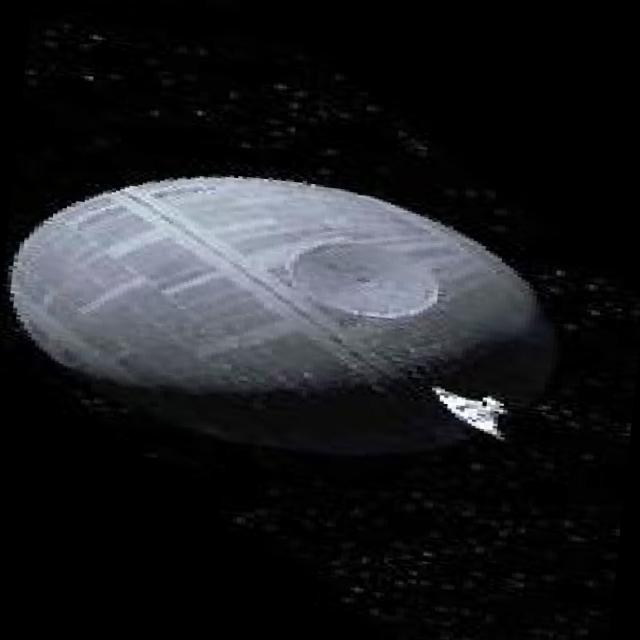Death Star: (5, 146, 566, 480)
